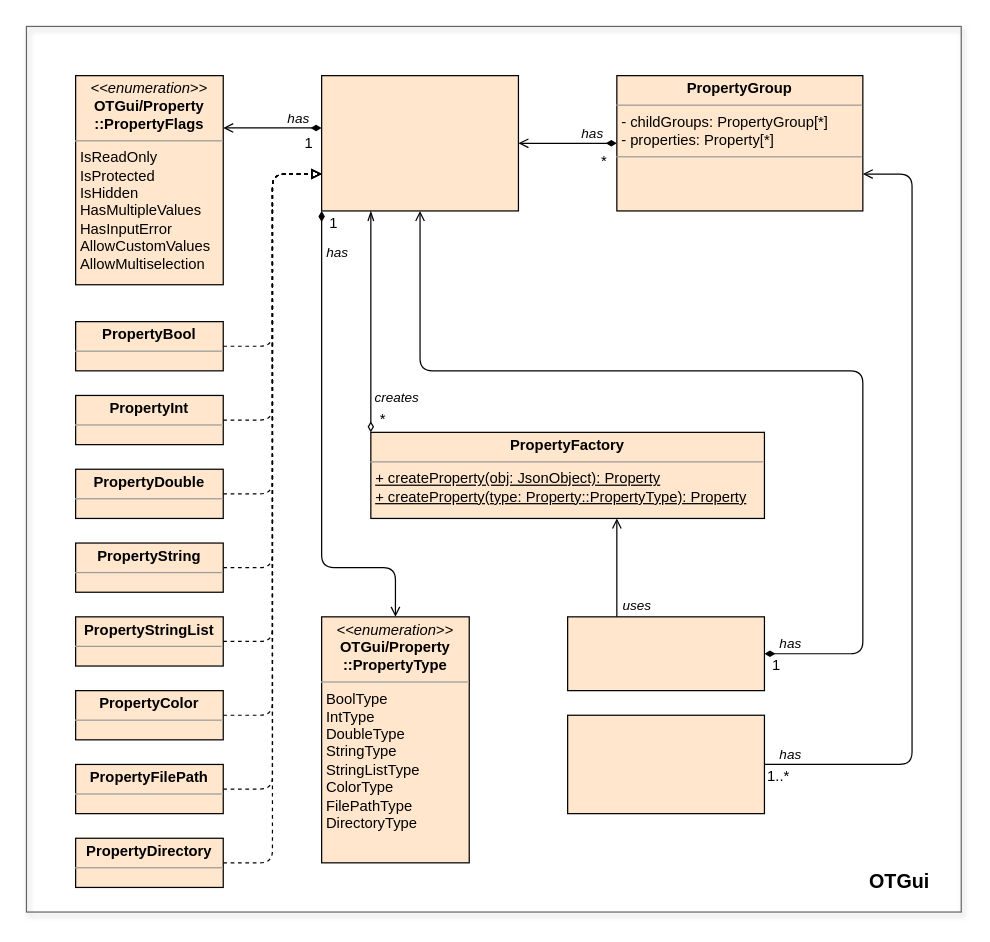
The diagram is 990 pixels wide and 942 high, and some of its shapes have lost their labels. Here are the shapes that lost their labels. From the top down, the centre of each, then its label:
[419,142]: Property - name: String - title: String - tip: String - flags: PropertyFlags[*]
[665,653]: OnePropertyDialogCfg - property: Property
[665,764]: PropertyDialogCfg - defaultGroup: Property - rootGroups: Property*
